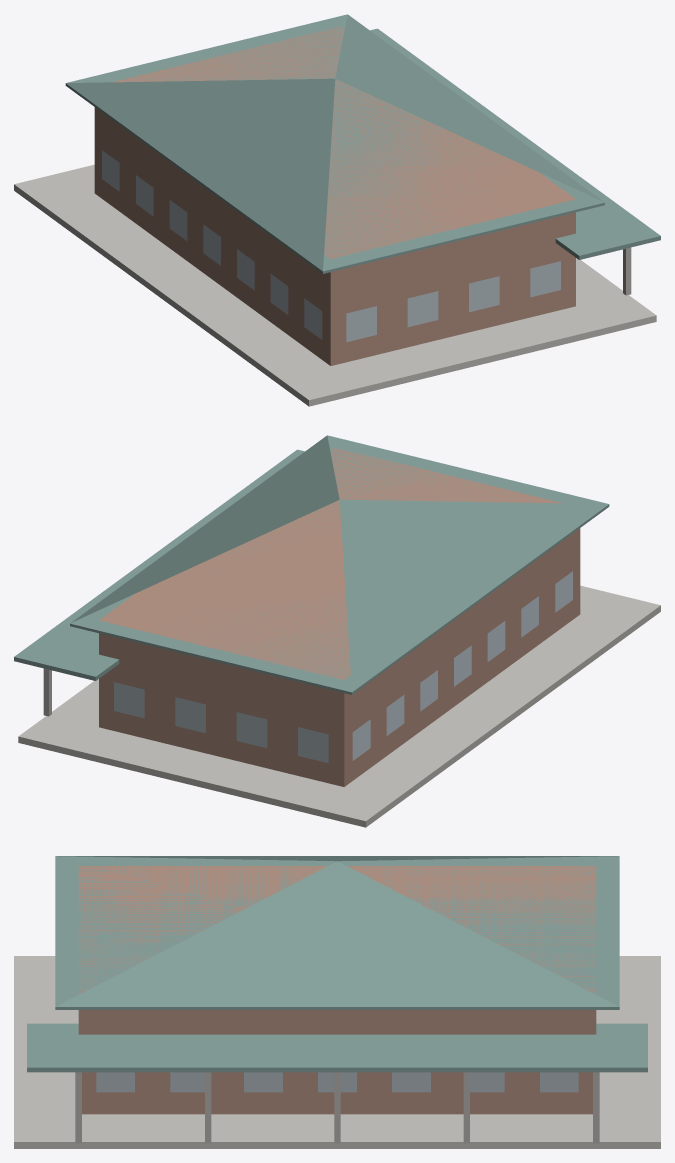
Rendered from 03_stations_3x3-01.glb.
3 views of the same model, one above another, from view 1: azimuth 30°, elevation 25°; view 2: azimuth 150°, elevation 25°; view 3: azimuth 270°, elevation 25° (orthographic). The views are drawn at different scales.
Bounding box in the file's own units: 17.5 × 8.3 × 25.
